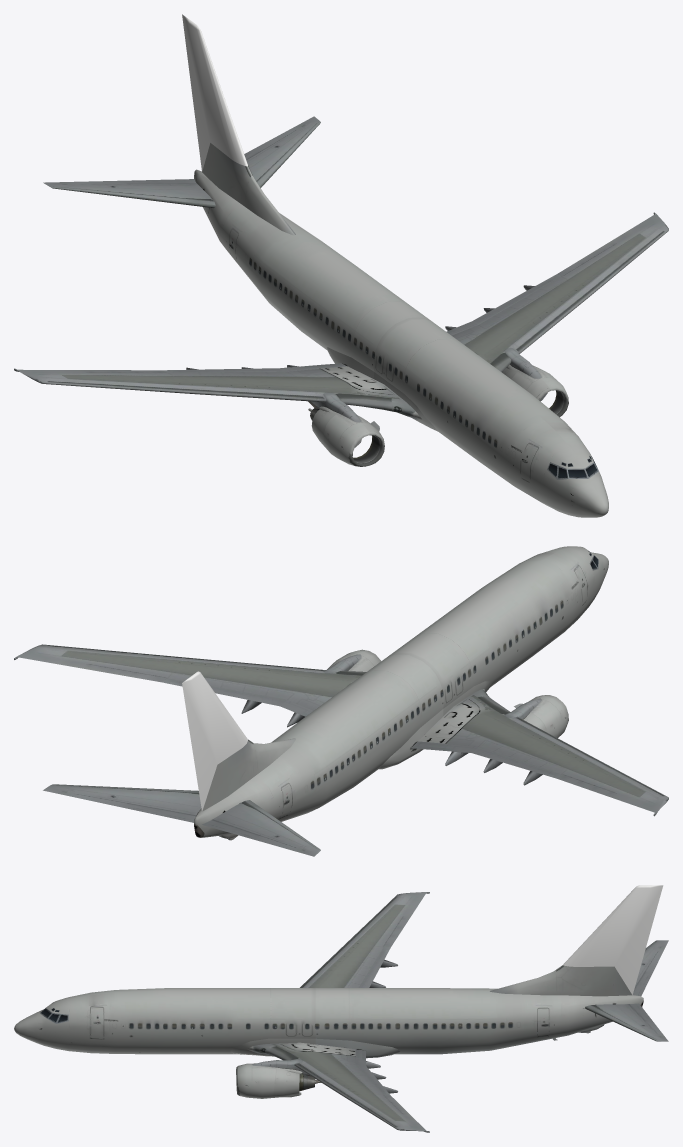
Rendered from airliner_737.glb.
3 renders of one model, top to bottom at view 1: azimuth 30°, elevation 25°; view 2: azimuth 150°, elevation 25°; view 3: azimuth 270°, elevation 25°, orthographic. The views are drawn at different scales.
Parts seen in each view (by area): view 1: BODY; view 2: BODY; view 3: BODY.
Boxes of the visible parts, x1,y1,x2,y2 form: BODY: (14, 14, 668, 517); BODY: (14, 546, 668, 856); BODY: (14, 885, 668, 1132).
Bounding box in the file's own units: 34.22 × 11.72 × 39.5.
Materials: 3 (2 with a texture image).
